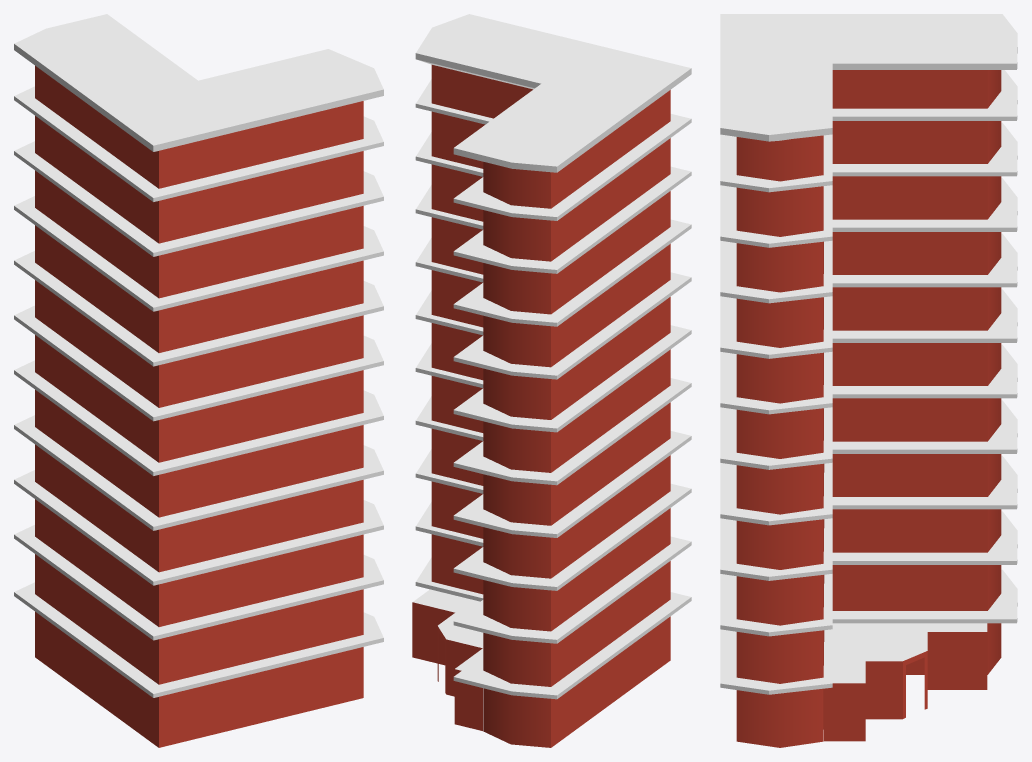
File: Building_2_Red.glb
3 renders of one model, left to right at view 1: azimuth 30°, elevation 25°; view 2: azimuth 150°, elevation 25°; view 3: azimuth 270°, elevation 25°, orthographic. The views are drawn at different scales.
Visible parts, largest first — view 1: pPlane3; view 2: pPlane3; view 3: pPlane3.
Part boxes in pixels (x1,y1,x2,y2): pPlane3: (14,14,383,747); pPlane3: (412,14,691,747); pPlane3: (720,14,1017,747).
Size of the model in its own units: 50.39 by 120 by 52.34.
